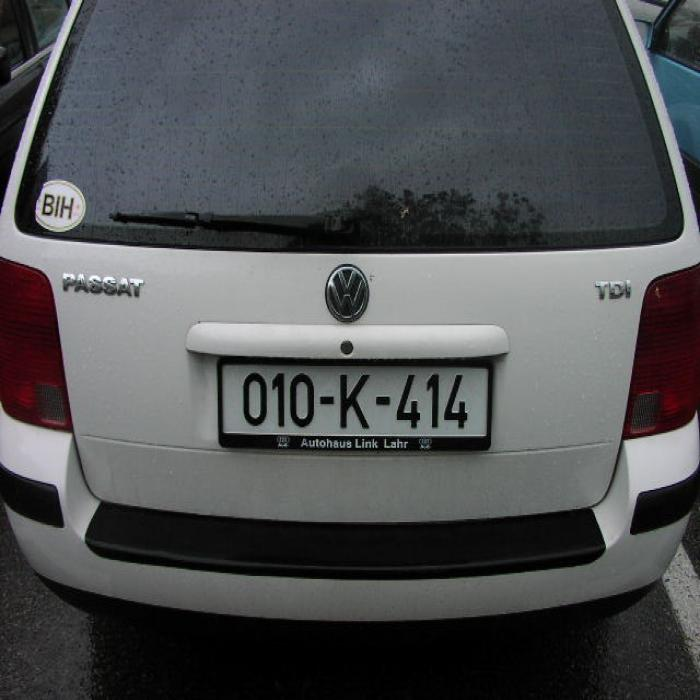number_plate: (219, 363, 488, 446)
